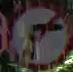Don't turn right: (9, 5, 69, 68)
